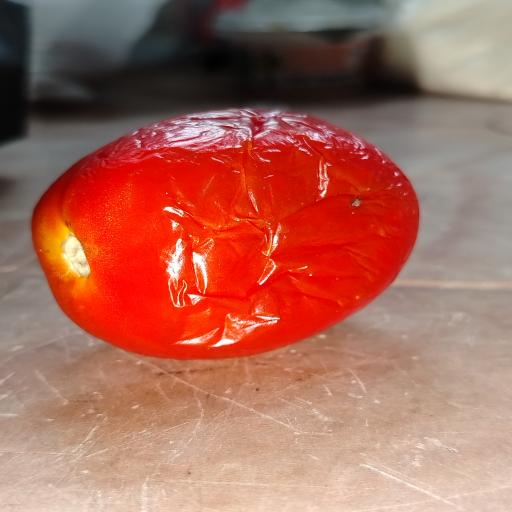spoiled: (33, 109, 418, 358)
